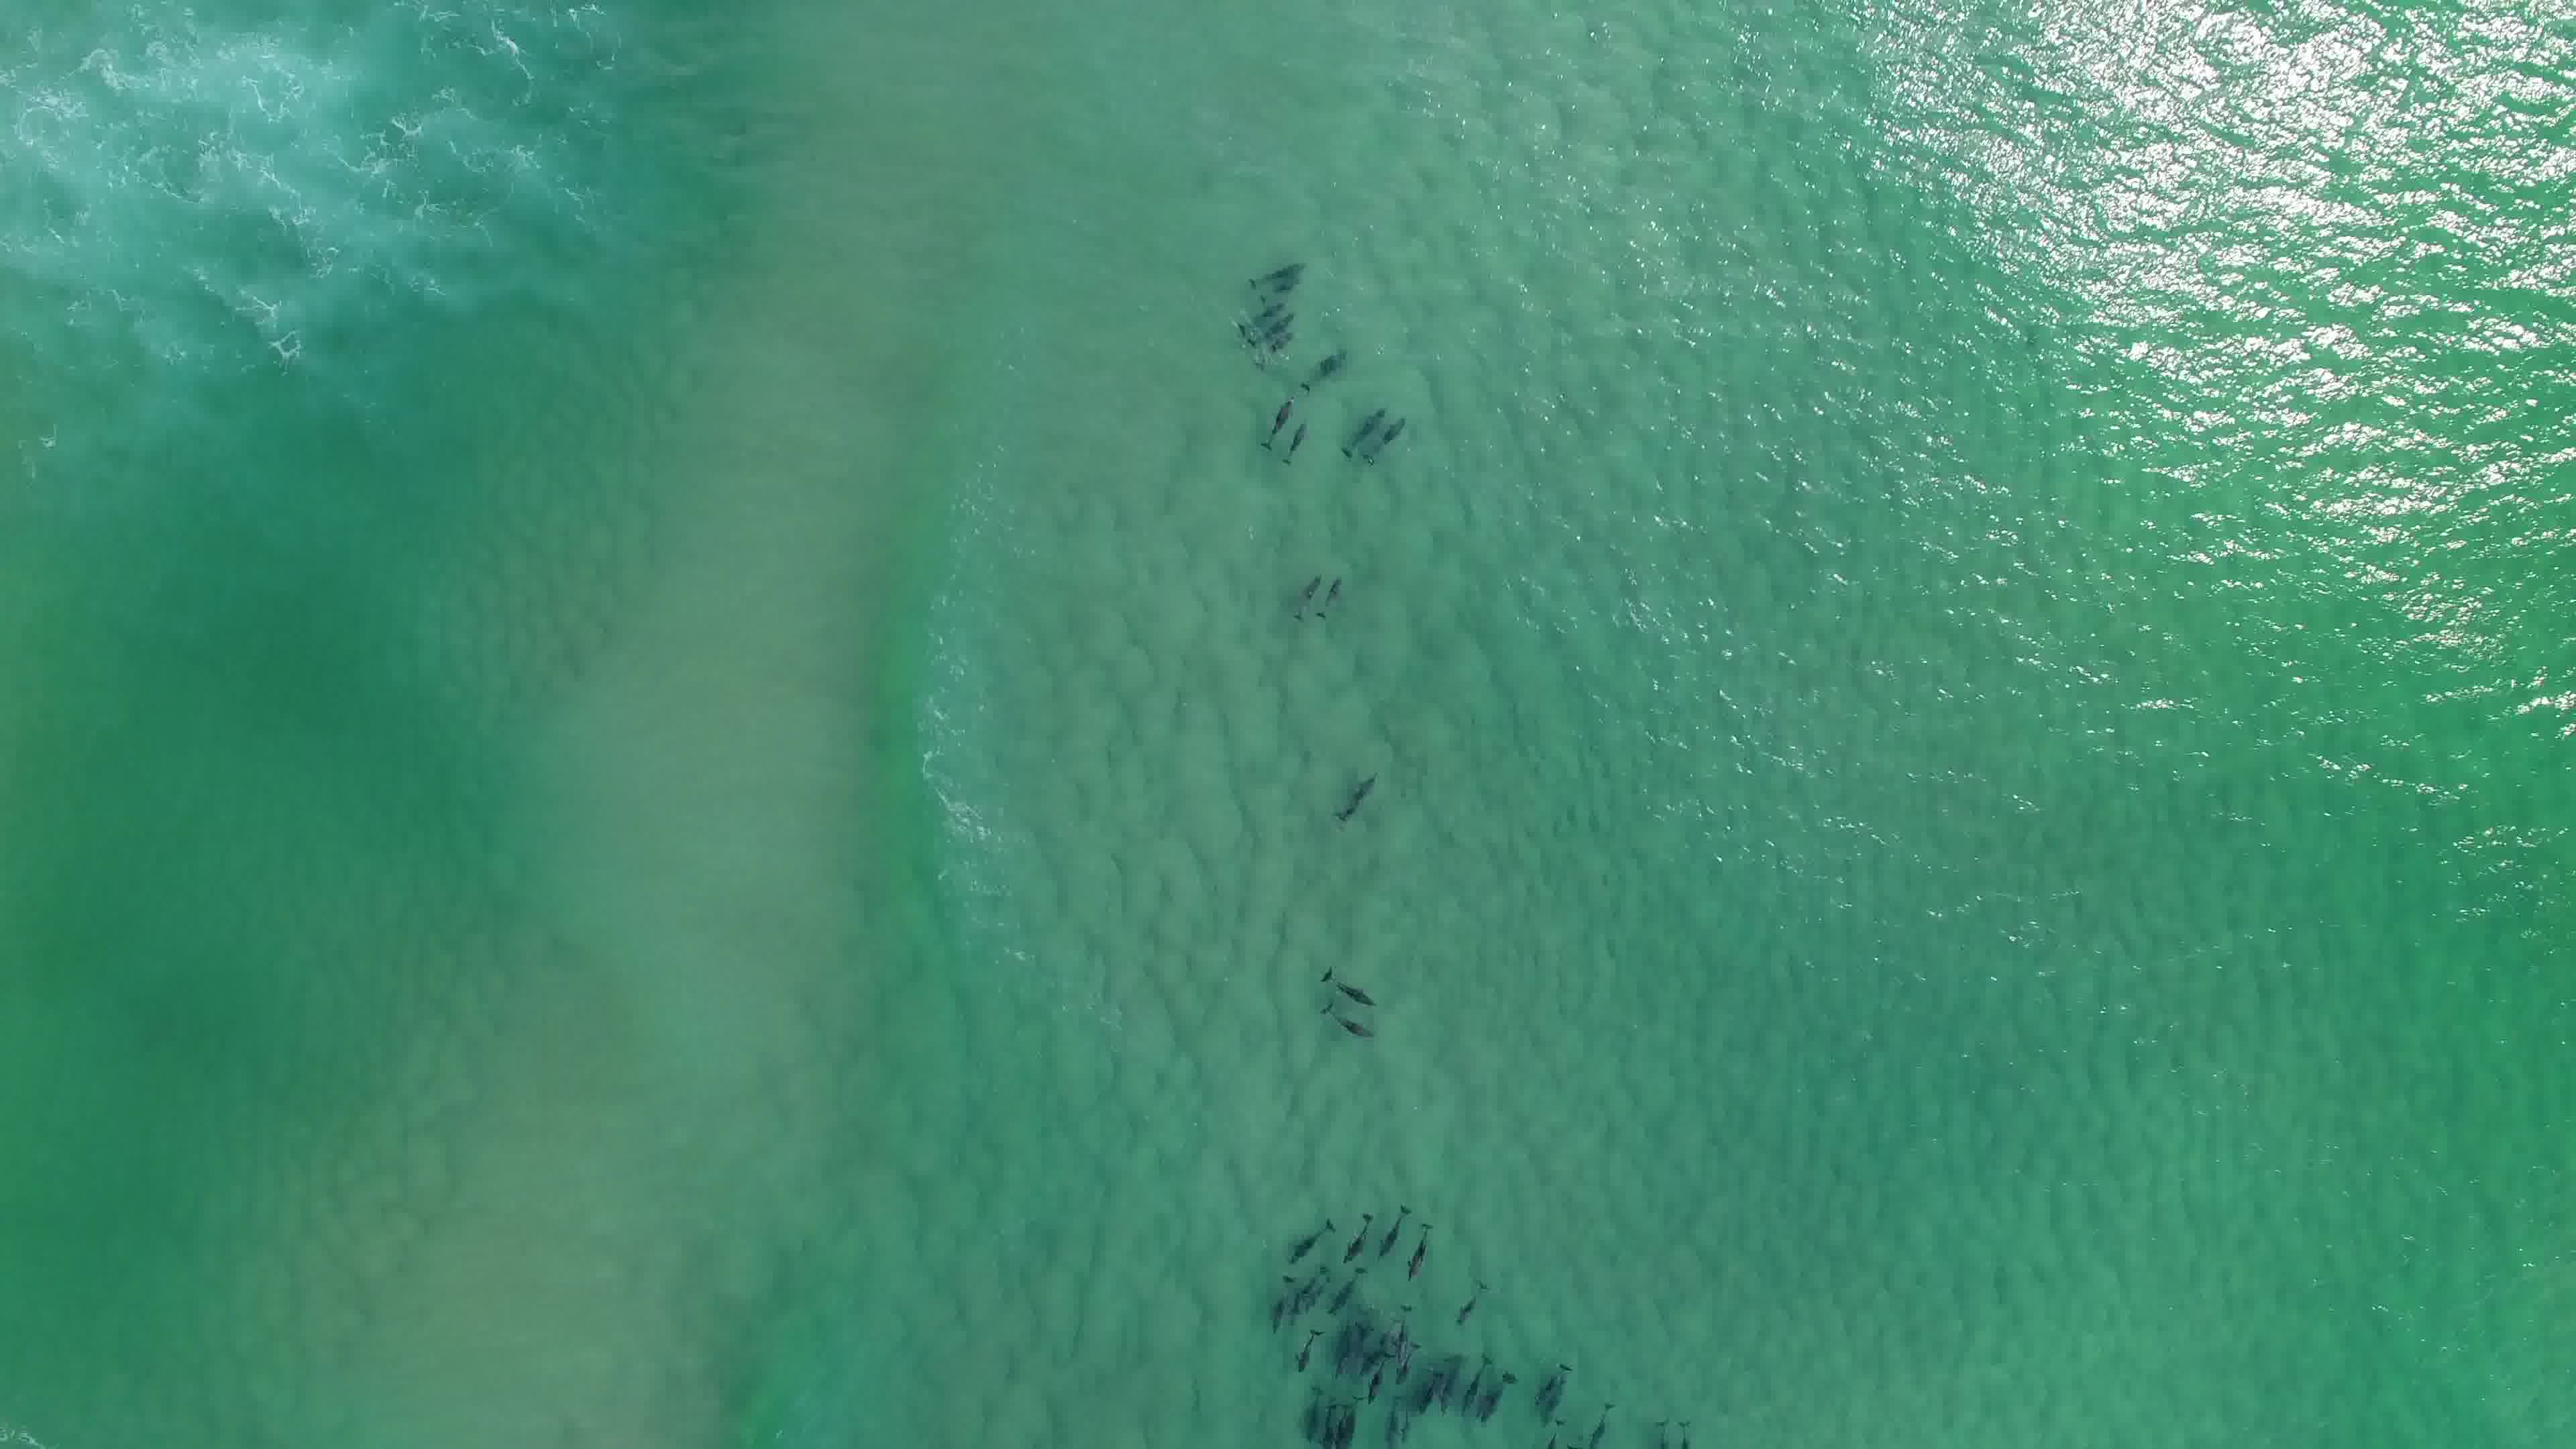dolphin: (1299, 945, 1389, 1019), (1323, 759, 1387, 821), (1311, 998, 1384, 1047), (1277, 1214, 1345, 1256), (1541, 1364, 1585, 1426), (1373, 1191, 1412, 1260), (1338, 393, 1380, 455), (1336, 1207, 1382, 1263), (1385, 1306, 1426, 1369), (1364, 405, 1410, 460), (1474, 1359, 1520, 1414), (1401, 1217, 1438, 1283), (1361, 1350, 1401, 1408), (1451, 1276, 1493, 1330), (1277, 403, 1313, 467), (1309, 563, 1348, 619), (1456, 1357, 1500, 1407), (1283, 561, 1322, 616), (1288, 338, 1345, 375), (1309, 1396, 1355, 1440), (1247, 251, 1304, 287), (1254, 1277, 1292, 1327), (1442, 1361, 1477, 1410), (1419, 1366, 1458, 1410), (1263, 393, 1293, 448), (1332, 1263, 1368, 1309), (1649, 1410, 1690, 1449), (1233, 288, 1284, 318), (1238, 315, 1297, 338), (1290, 1323, 1318, 1366), (1258, 331, 1297, 354)
